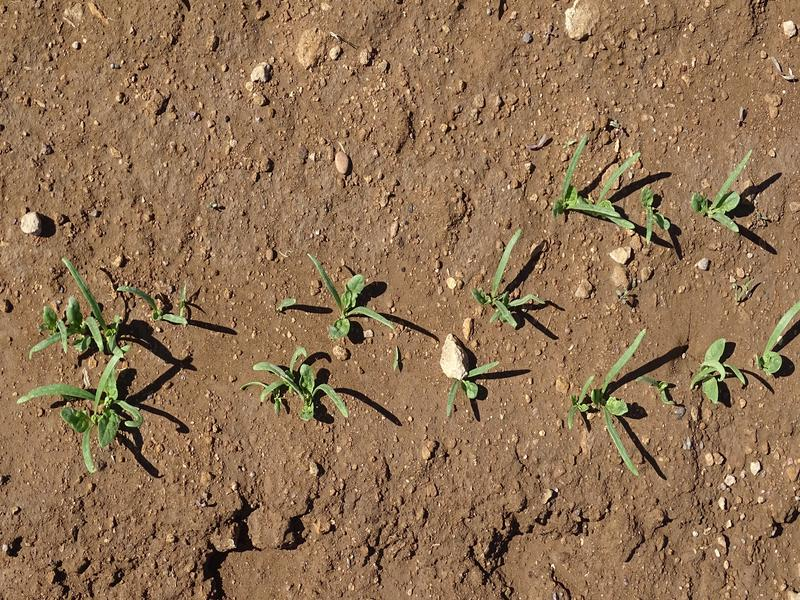Espinaca: (11, 254, 192, 468), (248, 264, 404, 416), (552, 140, 671, 241), (573, 339, 656, 466), (702, 314, 797, 413), (699, 161, 761, 237), (484, 237, 542, 318)
